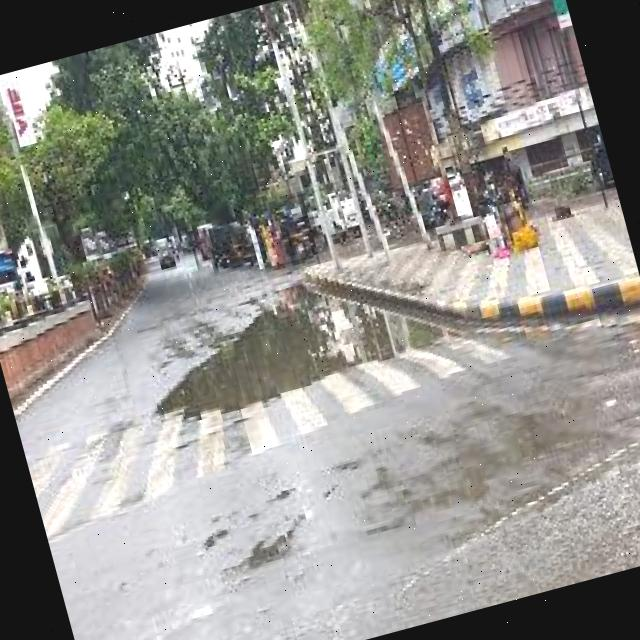stagnation: (117, 252, 400, 429)
